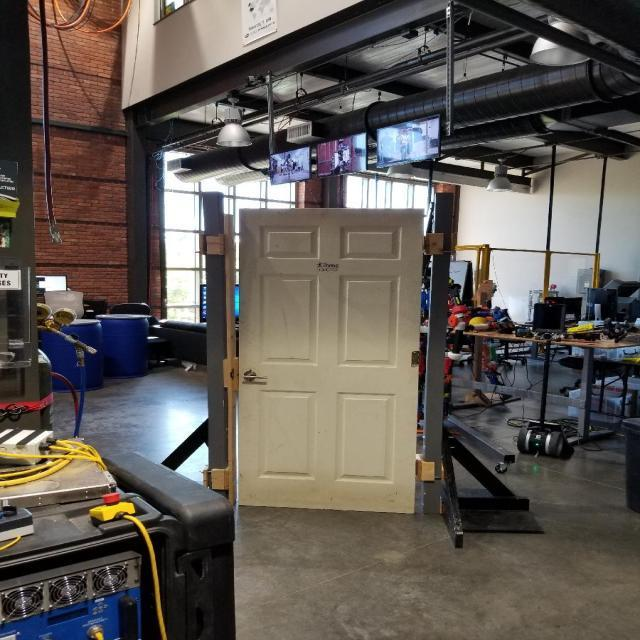door: (235, 205, 426, 516), (242, 368, 266, 381)
